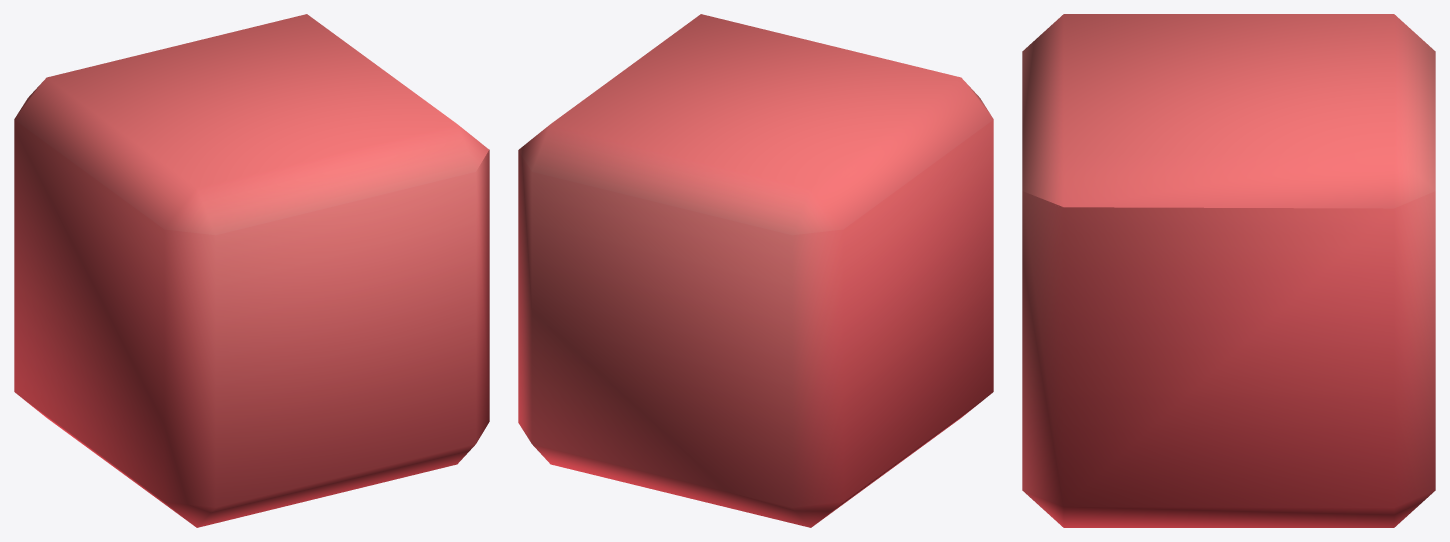
The model's file is meat_gib.gltf.
3 renders of one model, left to right at view 1: azimuth 30°, elevation 25°; view 2: azimuth 150°, elevation 25°; view 3: azimuth 270°, elevation 25°, orthographic. The views are drawn at different scales.
Visible parts, largest first — view 1: food_ingredient_steak_pieces; view 2: food_ingredient_steak_pieces; view 3: food_ingredient_steak_pieces.
Part boxes in pixels (x1=…): food_ingredient_steak_pieces: x1=14, y1=14, x2=489, y2=527; food_ingredient_steak_pieces: x1=518, y1=14, x2=993, y2=527; food_ingredient_steak_pieces: x1=1022, y1=14, x2=1435, y2=527.
Size of the model in its own units: 0.2 by 0.2 by 0.2.
Materials: 1 (1 with a texture image).
